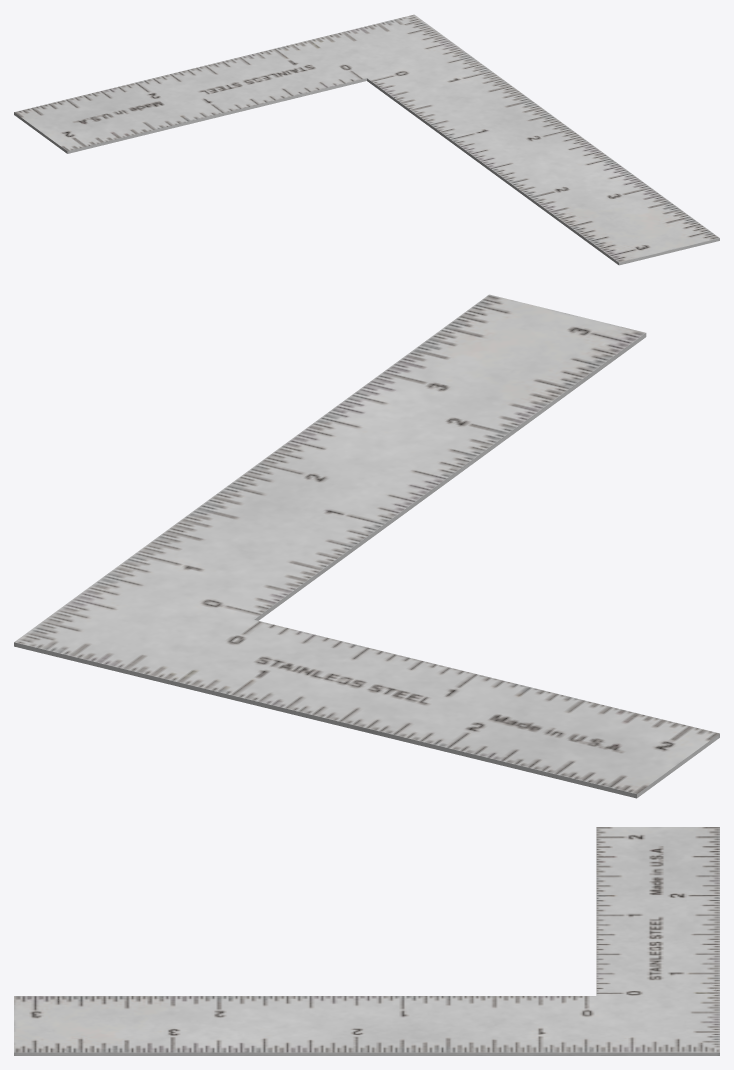
Rendered from SM_Rulers_01e.fbx.
The picture shows the model from 3 angles, top to bottom: view 1: azimuth 30°, elevation 25°; view 2: azimuth 150°, elevation 25°; view 3: azimuth 270°, elevation 25°; orthographic projection. The views are drawn at different scales.
Visible parts, largest first — view 1: SM_Rulers_01e; view 2: SM_Rulers_01e; view 3: SM_Rulers_01e.
Boxes of the visible parts, x1=… form: SM_Rulers_01e: x1=14, y1=14, x2=719, y2=265; SM_Rulers_01e: x1=14, y1=294, x2=719, y2=798; SM_Rulers_01e: x1=14, y1=827, x2=719, y2=1055.
Size of the model in its own units: 10.81 by 14.29 by 0.0699.
1 material, 1 textured.
